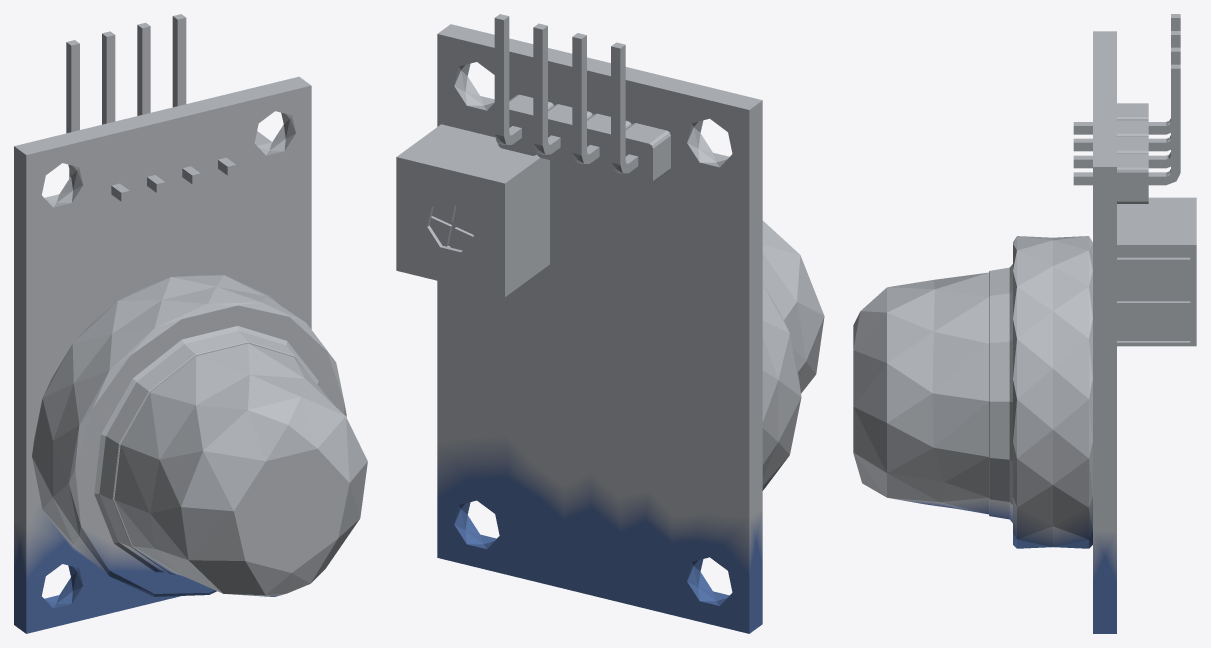
3 renders of one model, left to right at view 1: azimuth 30°, elevation 25°; view 2: azimuth 150°, elevation 25°; view 3: azimuth 270°, elevation 25°, orthographic. The views are drawn at different scales.
Parts seen in each view (by area): view 1: Created by Gmsh; view 2: Created by Gmsh; view 3: Created by Gmsh.
Part boxes in pixels (bbox=[...]): Created by Gmsh: bbox=[14, 14, 367, 633]; Created by Gmsh: bbox=[396, 14, 824, 633]; Created by Gmsh: bbox=[853, 14, 1196, 633].
Size of the model in its own units: 0.3015 by 0.5437 by 0.3225.
